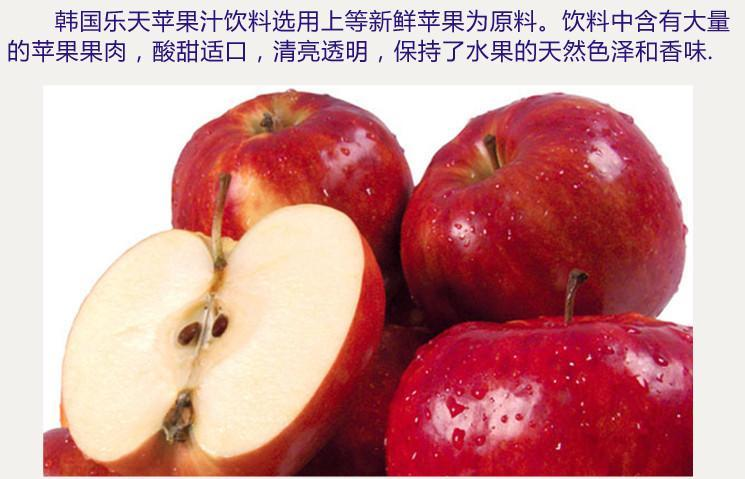apple: (400, 91, 688, 333), (169, 91, 408, 313)
